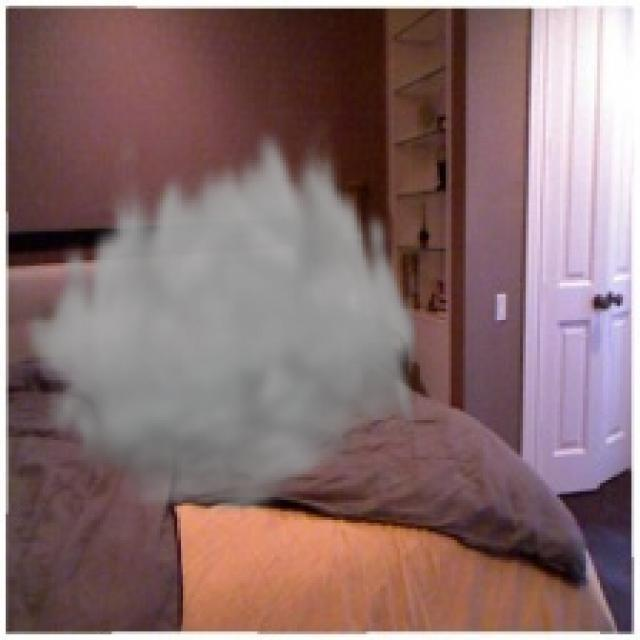Smoke: (20, 117, 423, 523)
